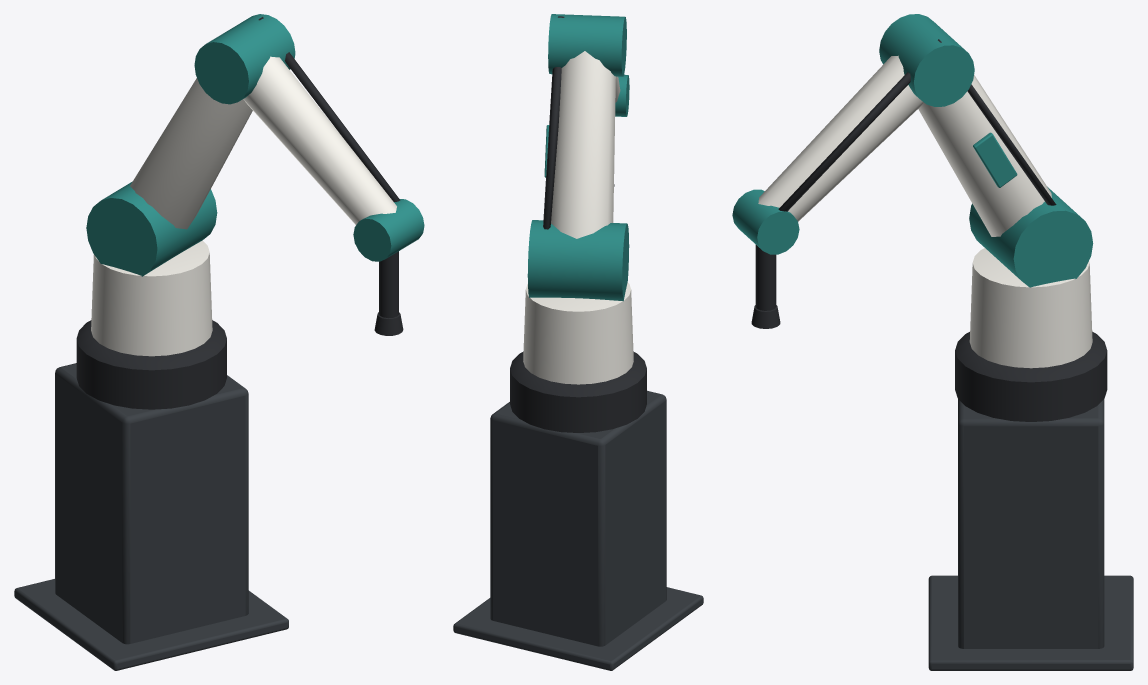
Rendered from robot_1.fbx.
The picture shows the model from 3 angles, left to right: view 1: azimuth 30°, elevation 25°; view 2: azimuth 150°, elevation 25°; view 3: azimuth 270°, elevation 25°; orthographic projection. The views are drawn at different scales.
Parts seen in each view (by area): view 1: robot_1; view 2: robot_1; view 3: robot_1.
Boxes of the visible parts, bbox=[...] form: robot_1: bbox=[14, 14, 424, 670]; robot_1: bbox=[453, 14, 703, 670]; robot_1: bbox=[732, 14, 1133, 670].
Bounding box in the file's own units: 0.8971 × 2.34 × 1.37.
